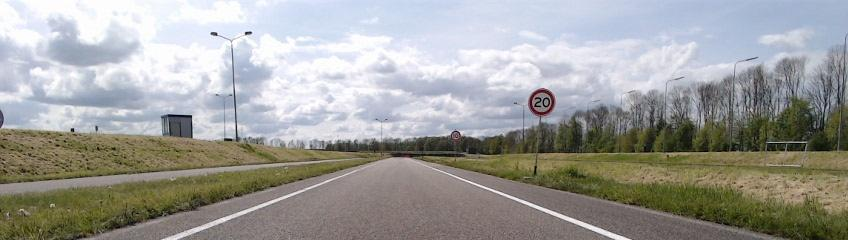Speed-limit-10km-h-: (451, 131, 461, 141)
Speed-limit-20km-h-: (528, 88, 556, 116)
